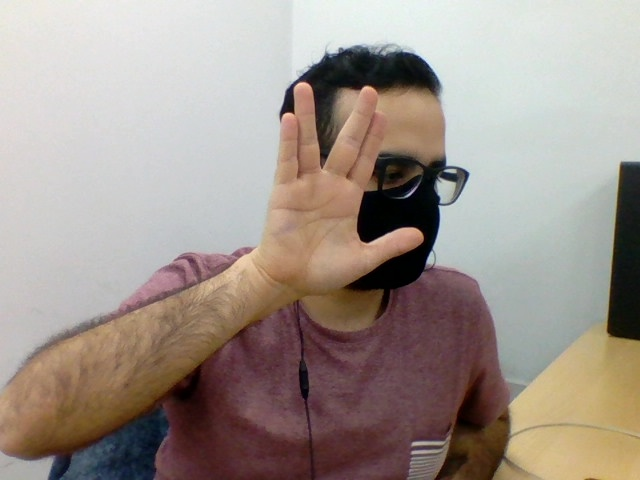LiveLong: (256, 82, 425, 295)
